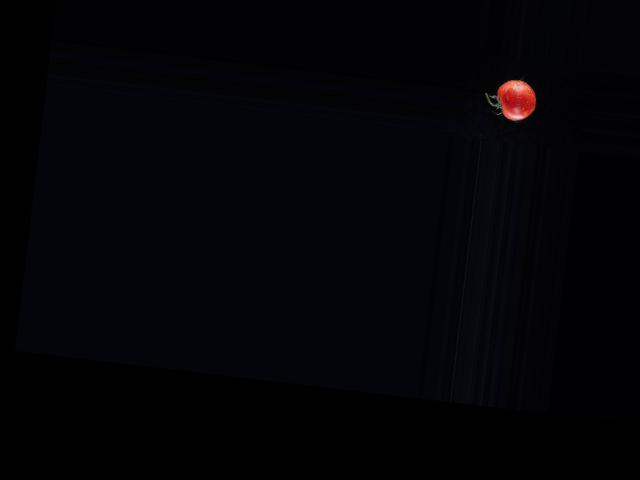tomato: (494, 77, 538, 122)
